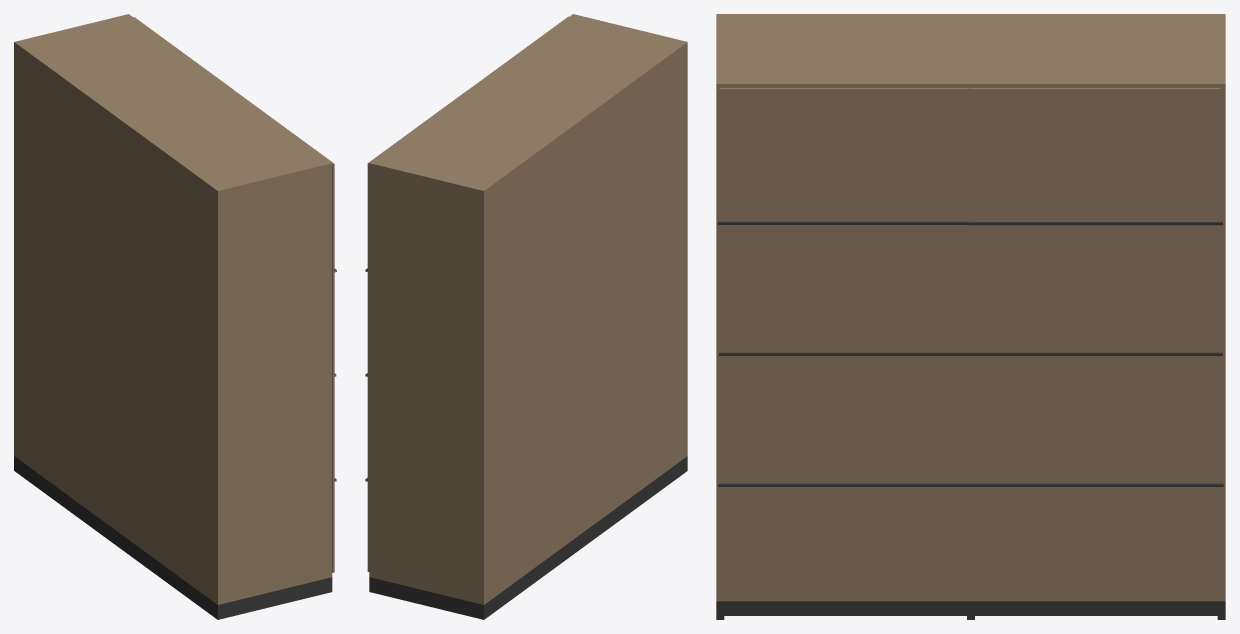
Rendered from armario.fbx.
The picture shows the model from 3 angles, left to right: view 1: azimuth 30°, elevation 25°; view 2: azimuth 150°, elevation 25°; view 3: azimuth 270°, elevation 25°; orthographic projection. The views are drawn at different scales.
Parts seen in each view (by area): view 1: Box11; view 2: Box11; view 3: Box11.
Boxes of the visible parts, x1,y1,x2,y2 form: Box11: (14, 14, 336, 619); Box11: (365, 14, 687, 619); Box11: (716, 14, 1225, 619).
Bounding box in the file's own units: 0.6792 × 2.32 × 2.
